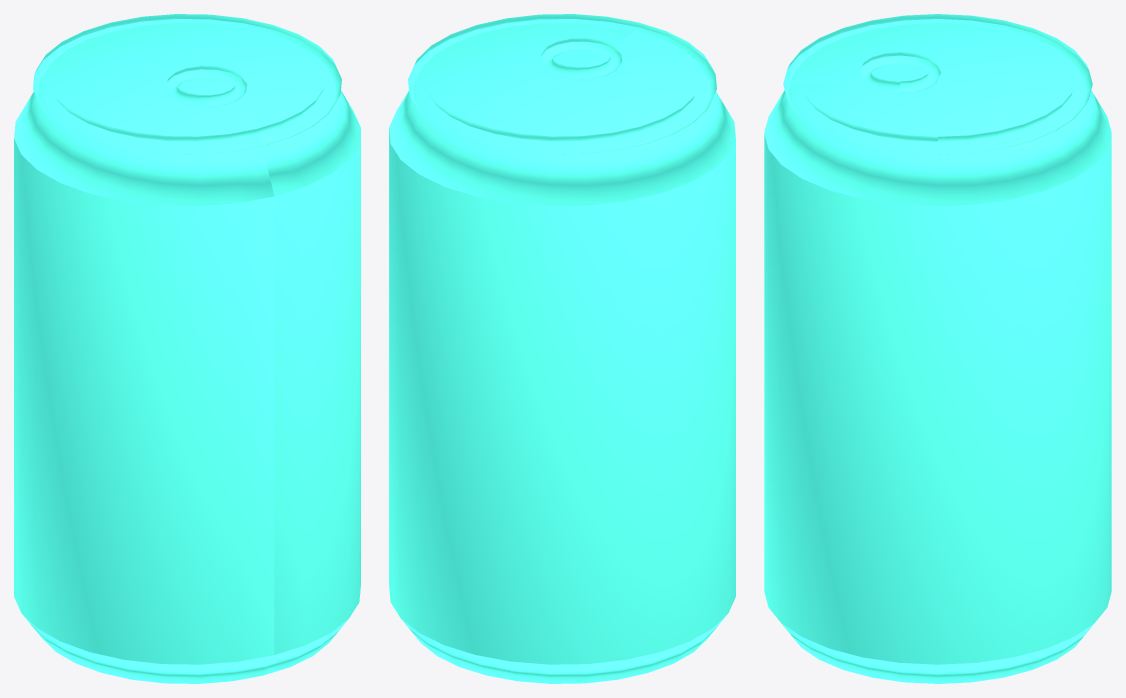
Rendered from soda-can.glb.
3 renders of one model, left to right at view 1: azimuth 30°, elevation 25°; view 2: azimuth 150°, elevation 25°; view 3: azimuth 270°, elevation 25°, orthographic.
Parts seen in each view (by area): view 1: SodaCan; view 2: SodaCan; view 3: SodaCan.
Part boxes in pixels (x1=…): SodaCan: x1=14, y1=14, x2=360, y2=683; SodaCan: x1=389, y1=14, x2=735, y2=683; SodaCan: x1=764, y1=14, x2=1111, y2=683.
Bounding box in the file's own units: 1.1 × 1.93 × 1.1.
